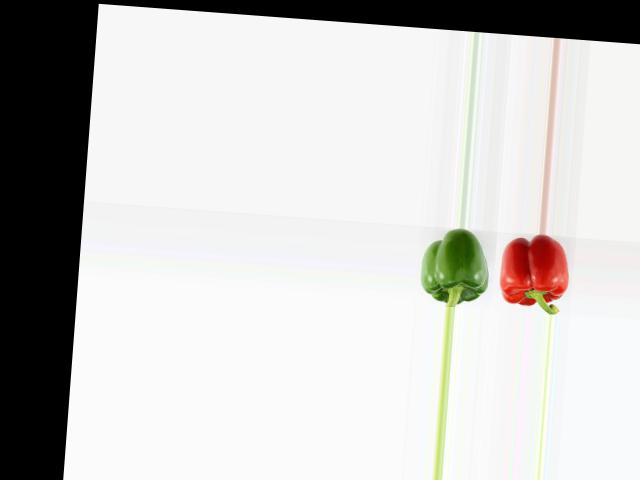bell_pepper: (416, 229, 494, 308)
